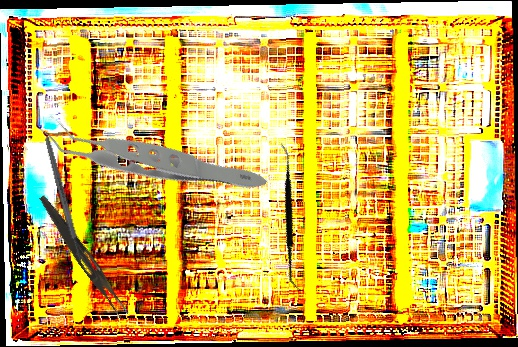Dressing Forceps: (32, 193, 134, 320)
Scalpel Handle: (43, 136, 84, 262)
Spatula Surgical: (222, 142, 359, 292)
Tissue Forceps: (34, 39, 269, 269)
